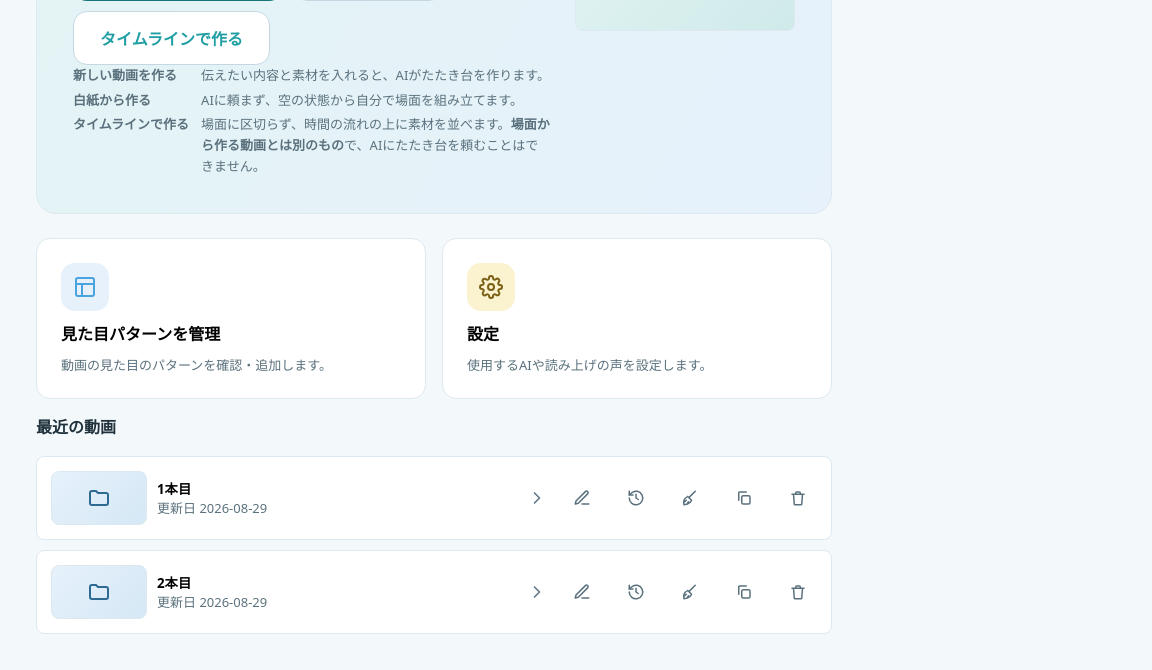
it: HomeScreen 複製と開くの相互ロック（🟡32） › コピーしている最中は、別の動画を開けない（理由も出す）
This screenshot has width=1152, height=670.
(page scrolled)
Expected: the text "1本目" is shown, [157, 479, 191, 498]
Click the button named "「1本目」を複製" at (744, 498), box [725, 479, 763, 517]
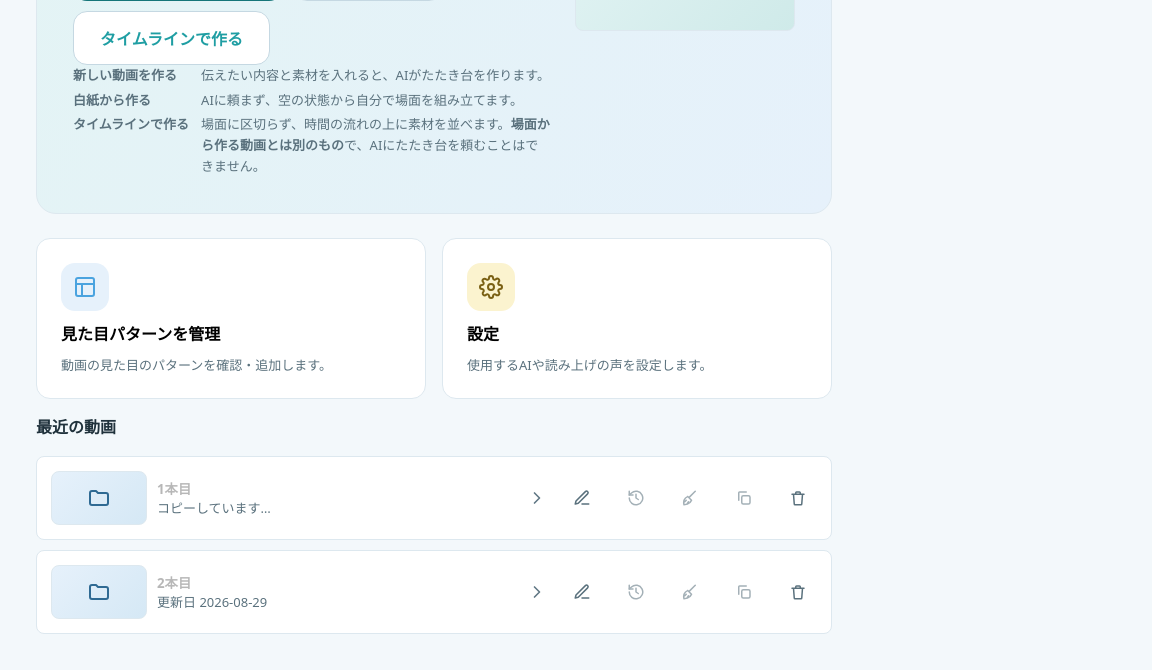
Expected: the button "2本目 更新日 2026-08-29" is disabled, [51, 565, 547, 619]
